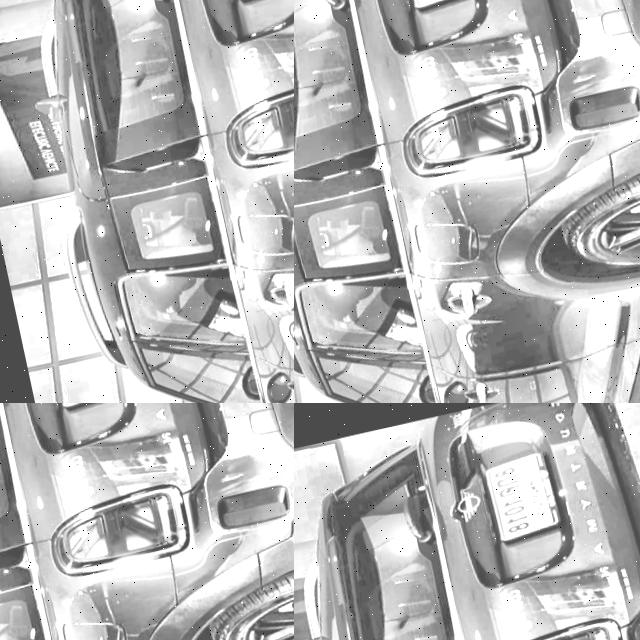license-plate: (0, 0, 214, 252), (473, 444, 572, 550)
